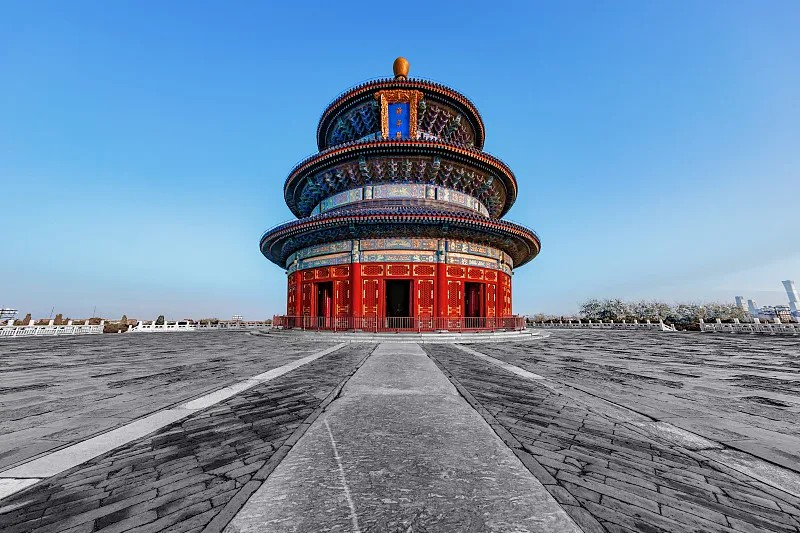Heaven: (259, 56, 543, 338)
